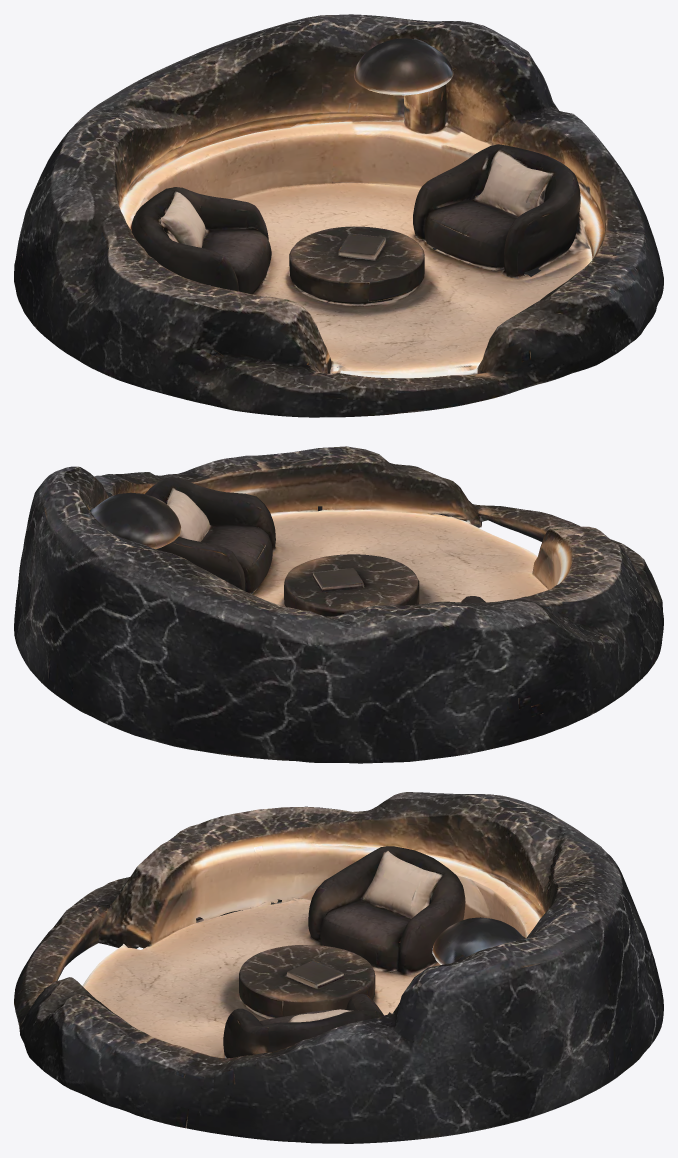
File: start-mobile.glb
3 renders of one model, top to bottom at view 1: azimuth 30°, elevation 25°; view 2: azimuth 150°, elevation 25°; view 3: azimuth 270°, elevation 25°, orthographic.
Parts seen in each view (by area): view 1: Mesh0; view 2: Mesh0; view 3: Mesh0.
Boxes of the visible parts, x1,y1,x2,y2 form: Mesh0: (14,14,663,417); Mesh0: (14,446,663,763); Mesh0: (14,792,663,1143).
Bounding box in the file's own units: 1.9 × 0.4889 × 1.89.
1 material, 1 textured.
